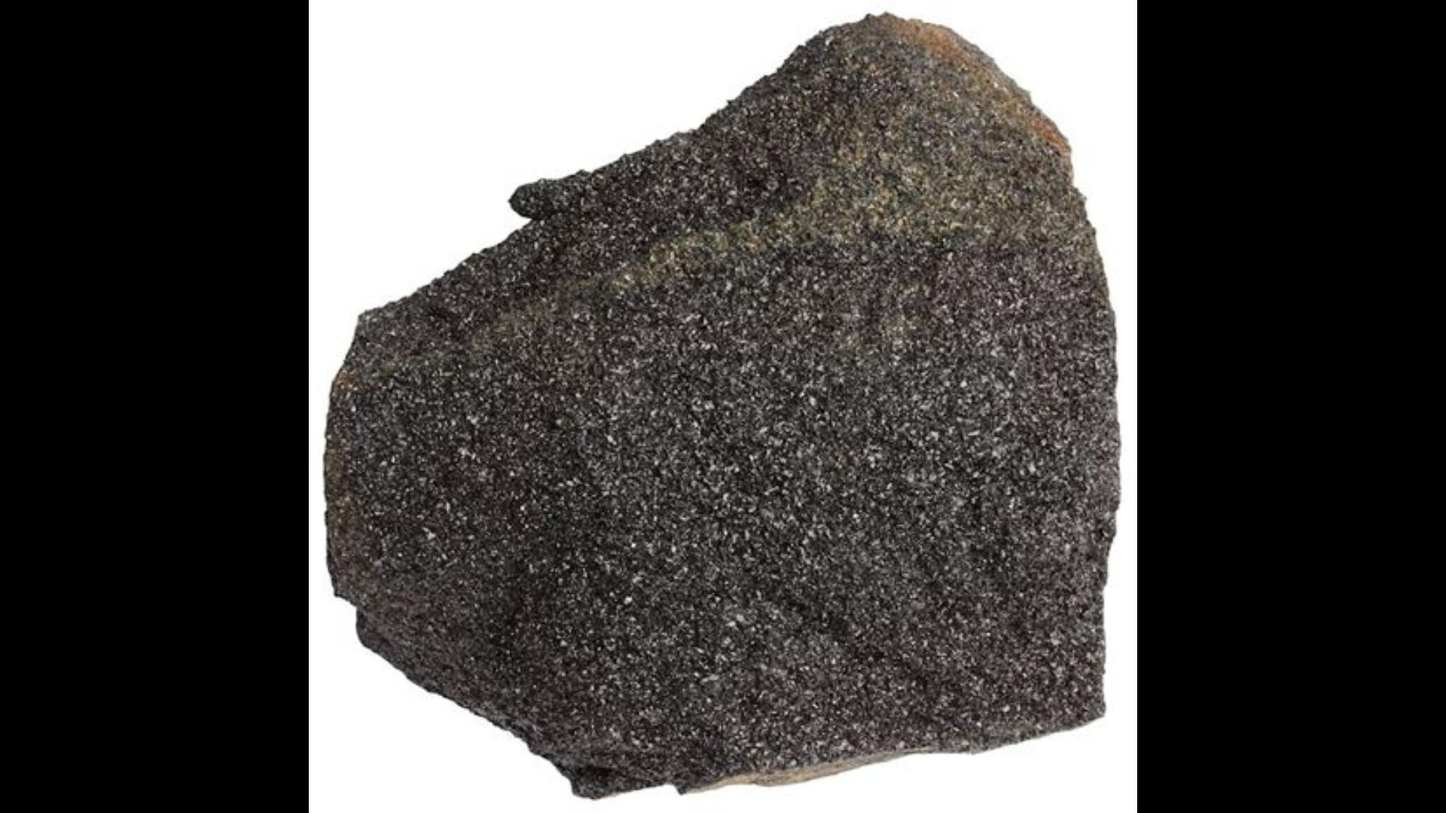rock: (326, 16, 1117, 794)
